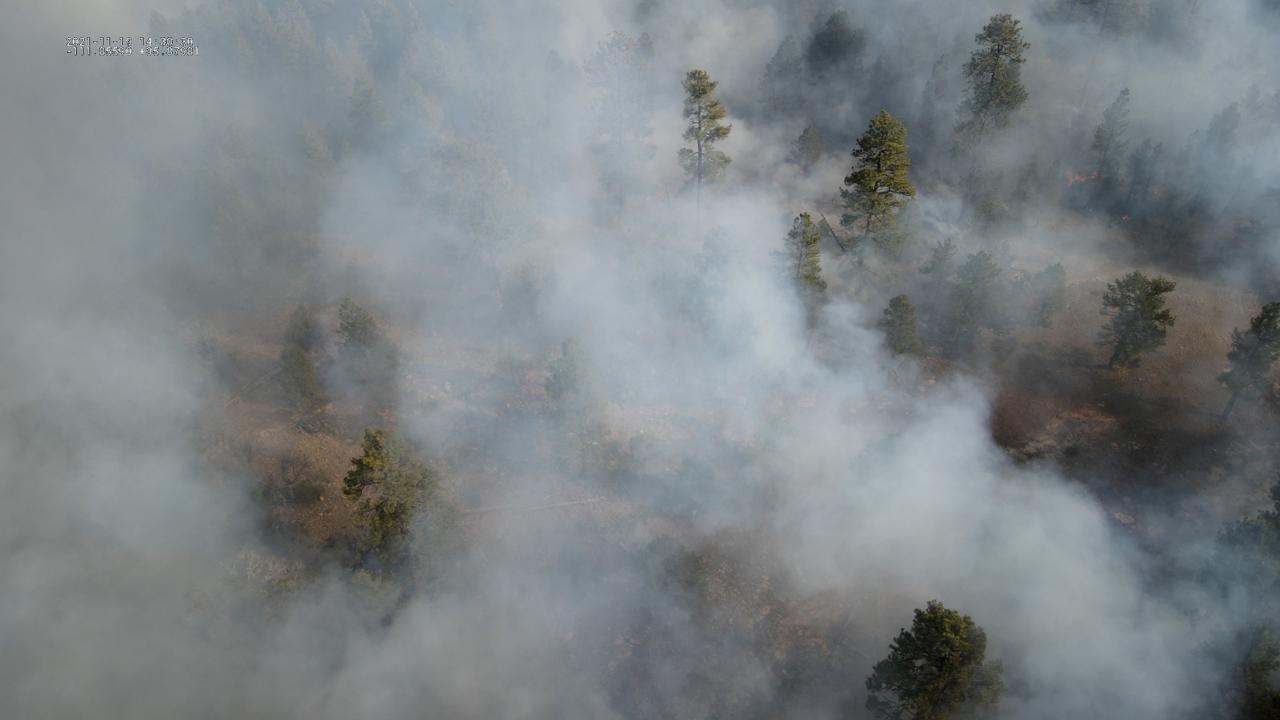fire: (1065, 172, 1089, 189), (1121, 215, 1132, 222)
smoke: (0, 0, 1280, 720)
